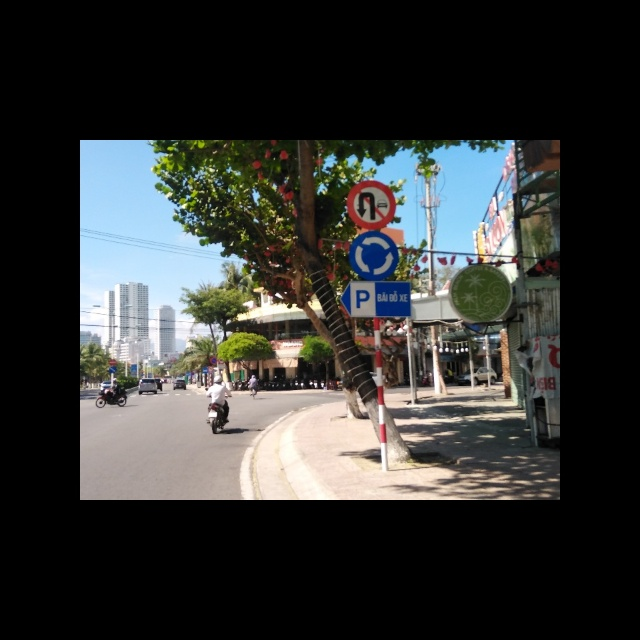Cấm xe ô tô quay đầu: (347, 180, 396, 230)
Nơi giao nhau chạy theo vòng xuyến: (349, 230, 400, 280)
Nơi đỗ xe: (339, 280, 412, 318)
